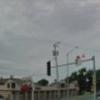traffic lights: (48, 62, 51, 76)
